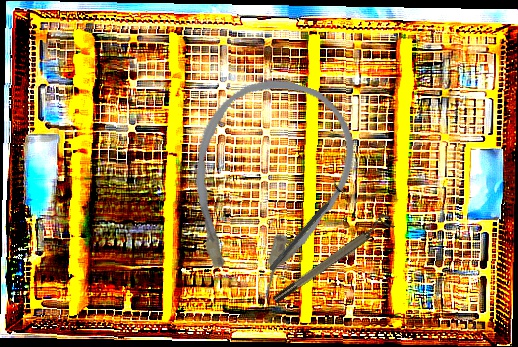Cannula: (159, 60, 373, 313)
Fixation Ring: (267, 211, 396, 306), (264, 179, 348, 276)
